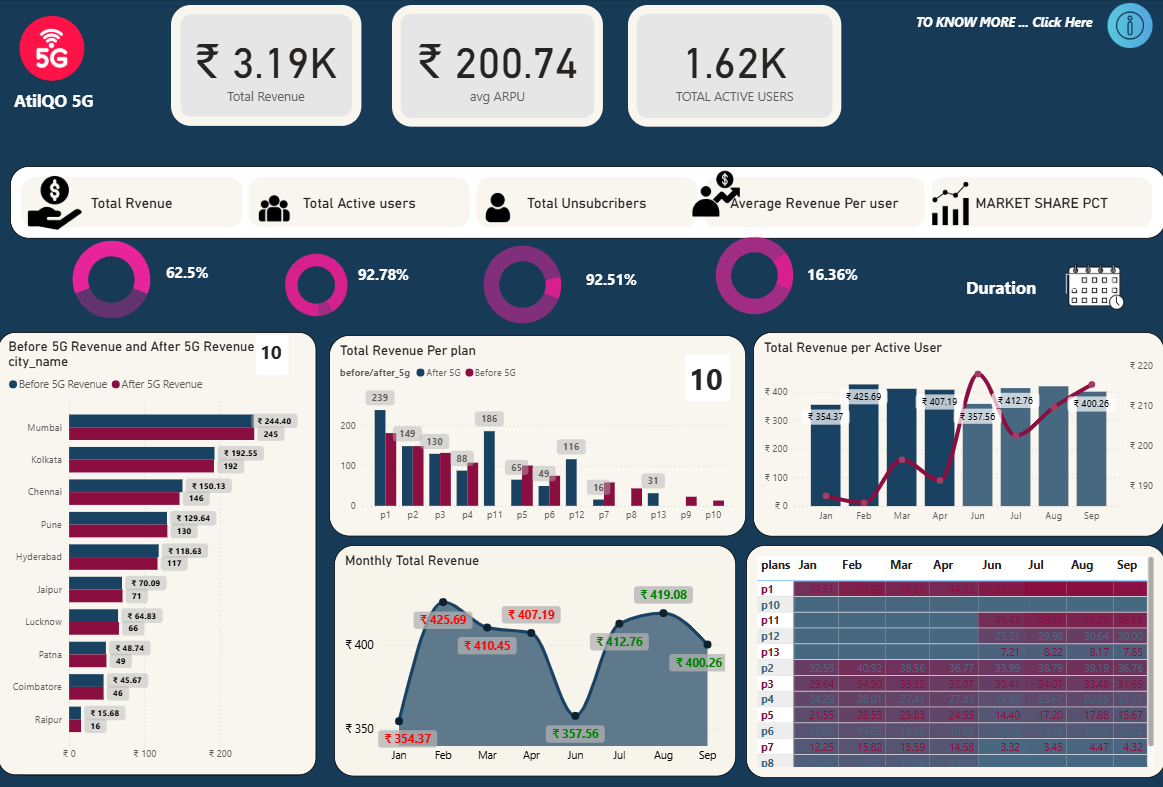

Layout of this report page (visuals, bound fields, positions):
{"tool":"powerbi","page":{"name":"INSIGHTS","canvas":[1500,1000],"ordinal":2},"visuals":[{"type":"barChart","fields":{"Category":["dim_cities.city_name"],"Series":["fact_plan_revenue.plans"],"Y":["Measures (2).Total Revenue"]},"box":[27.2,421,382.6,561.9],"z":0},{"type":"barChart","fields":{"Y":["Measures (2).Total Active users","Measures (2).Total Unsubcribers"]},"box":[1221.2,400.8,261.4,79.1],"z":1000},{"type":"pivotTable","fields":{"Rows":["fact_plan_revenue.plans"],"Columns":["dim_date.month_name"],"Values":["Sum(fact_plan_revenue.plan_revenue_crores)"]},"box":[958.1,690.6,530.9,294.8],"z":2000},{"type":"lineStackedColumnComboChart","title":"Total Revenue per Active User","fields":{"Category":["dim_date.month_name"],"Y2":["Measures (2).TOTAL ARPU"],"Y":["Measures (2).Total Revenue"]},"box":[967.7,421.7,521.4,259.3],"z":3000},{"type":"card","fields":{"Values":["Measures (2).Total Revenue"]},"box":[230.4,7.6,240.5,153.2],"z":4000},{"type":"card","fields":{"Values":["Measures (2).TOTAL ARPU"]},"box":[510.2,8,267.1,153.6],"z":5000},{"type":"card","fields":{"Values":["Measures (2).TOTAL ACTIVE USERS"]},"box":[809.4,8,269.8,153.6],"z":6000},{"type":"textbox","box":[27.1,108.3,133.8,38.2],"z":8000},{"type":"advancedSlicerVisual","fields":{"Values":["Parameter.Parameter"]},"box":[26.6,211.4,1463.3,92.4],"z":9000},{"type":"image","box":[20.3,219,125.3,78.5],"z":10000},{"type":"image","box":[873.5,211.6,94.2,69.6],"z":11000},{"type":"image","box":[612.7,240.2,62.1,47.4],"z":12000},{"type":"image","box":[321.9,240.2,78.4,49],"z":13000},{"type":"lineChart","title":"Monthly Total Revenue","fields":{"Category":["dim_date.month_name"],"Y":["Measures (2).Total Revenue"]},"box":[436.8,690.6,509.1,293.4],"z":14000},{"type":"clusteredColumnChart","title":"Total Revenue Per plan","fields":{"Category":["fact_plan_revenue.plans"],"Y":["Sum(fact_plan_revenue.plan_revenue_crores)"],"Series":["dim_date.before/after_5g"]},"box":[429.9,425.8,528.2,255.2],"z":15000},{"type":"textbox","box":[881.6,448.8,57.4,60.1],"z":16000},{"type":"image","box":[27.1,15.9,106.7,92.4],"z":18000},{"type":"image","box":[1331.9,315.4,139.3,97.7],"z":21000},{"type":"textbox","box":[1231.1,328.2,121.7,67.2],"z":22000},{"type":"slicer","fields":{"Values":["dim_date.before/after_5g"]},"box":[1352.7,337.8,80,35.2],"z":23000},{"type":"textbox","box":[1168.8,14.3,264.3,36.6],"z":24000},{"type":"image","box":[1390.1,0,109.9,66.9],"z":25000},{"type":"clusteredBarChart","fields":{"Category":["dim_cities.city_name"],"Y":["Measures (2).Before 5G Revenue","Measures (2).After 5G Revenue"]},"box":[6.4,421,403.4,561.9],"z":26000},{"type":"textbox","box":[338.2,424.8,40.8,50.7],"z":27000},{"type":"image","box":[1156.9,222.2,120.9,71.9],"z":28000},{"type":"donutChart","fields":{"Y":["Sum(fact_plan_revenue.plan_revenue_crores)","Sum(fact_atliqo_metrics.atliqo_revenue_crores)"]},"box":[80,288.2,150.5,132.9],"z":28001},{"type":"textbox","box":[219.3,328.2,91.2,41.6],"z":28002},{"type":"donutChart","fields":{"Y":["Measures (2).TOTAL ACTIVE USERS","Measures (2).Total Unsubcribers"]},"box":[328.2,307.4,172.9,108.9],"z":28003},{"type":"textbox","box":[462.6,329.8,76.8,41.6],"z":28004},{"type":"donutChart","fields":{"Y":["Sum(fact_plan_revenue.plan_revenue_crores)","Measures (2).TOTAL ARPU"]},"box":[600.3,294.6,150.5,132.9],"z":28005},{"type":"textbox","box":[750.8,336.2,99.3,38.4],"z":28006},{"type":"donutChart","fields":{"Y":["Sum(fact_market_share.ms_pct)","fact_market_share.Atliqo Ms"]},"box":[893.3,283.4,150.5,132.9],"z":28007},{"type":"textbox","box":[1030.9,329.8,99.3,35.2],"z":28008}]}

Visuals, with their boxes in screenshot pixels (x1, y1, x2, y2), scaled from the page's 1500x1000 canvas onto the 1163x787 screenshot:
barChart - dim_cities.city_name x fact_plan_revenue.plans: <box>21,331,318,774</box>
barChart - Measures (2).Total Active users x Measures (2).Total Unsubcribers: <box>947,315,1150,378</box>
pivotTable - fact_plan_revenue.plans x dim_date.month_name: <box>743,544,1154,776</box>
"Total Revenue per Active User" lineStackedColumnComboChart: <box>750,332,1155,536</box>
card - Measures (2).Total Revenue: <box>179,6,365,127</box>
card - Measures (2).TOTAL ARPU: <box>396,6,603,127</box>
card - Measures (2).TOTAL ACTIVE USERS: <box>628,6,837,127</box>
textbox: <box>21,85,125,115</box>
advancedSlicerVisual - Parameter.Parameter: <box>21,166,1155,239</box>
image: <box>16,172,113,234</box>
image: <box>677,167,750,221</box>
image: <box>475,189,523,226</box>
image: <box>250,189,310,228</box>
"Monthly Total Revenue" lineChart: <box>339,544,733,774</box>
"Total Revenue Per plan" clusteredColumnChart: <box>333,335,743,536</box>
textbox: <box>684,353,728,401</box>
image: <box>21,13,104,85</box>
image: <box>1033,248,1141,325</box>
textbox: <box>955,258,1049,311</box>
slicer - dim_date.before/after_5g: <box>1049,266,1111,294</box>
textbox: <box>906,11,1111,40</box>
image: <box>1078,0,1162,53</box>
clusteredBarChart - dim_cities.city_name x Measures (2).Before 5G Revenue: <box>5,331,318,774</box>
textbox: <box>262,334,294,374</box>
image: <box>897,175,991,231</box>
donutChart - Sum(fact_plan_revenue.plan_revenue_crores) x Sum(fact_atliqo_metrics.atliqo_revenue_crores): <box>62,227,179,331</box>
textbox: <box>170,258,241,291</box>
donutChart - Measures (2).TOTAL ACTIVE USERS x Measures (2).Total Unsubcribers: <box>254,242,389,328</box>
textbox: <box>359,260,418,292</box>
donutChart - Sum(fact_plan_revenue.plan_revenue_crores) x Measures (2).TOTAL ARPU: <box>465,232,582,336</box>
textbox: <box>582,265,659,295</box>
donutChart - Sum(fact_market_share.ms_pct) x fact_market_share.Atliqo Ms: <box>693,223,809,328</box>
textbox: <box>799,260,876,287</box>
